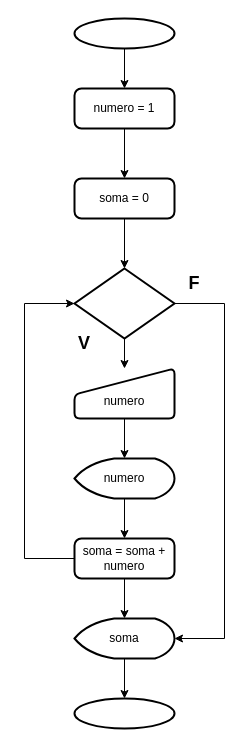
Image size: 250x746. Some labels were removed from this diagram. Each missing label, with the box of its shape:
Fim: (73, 697, 175, 729)
Início: (73, 17, 175, 49)
numero > 0: (73, 267, 175, 339)
